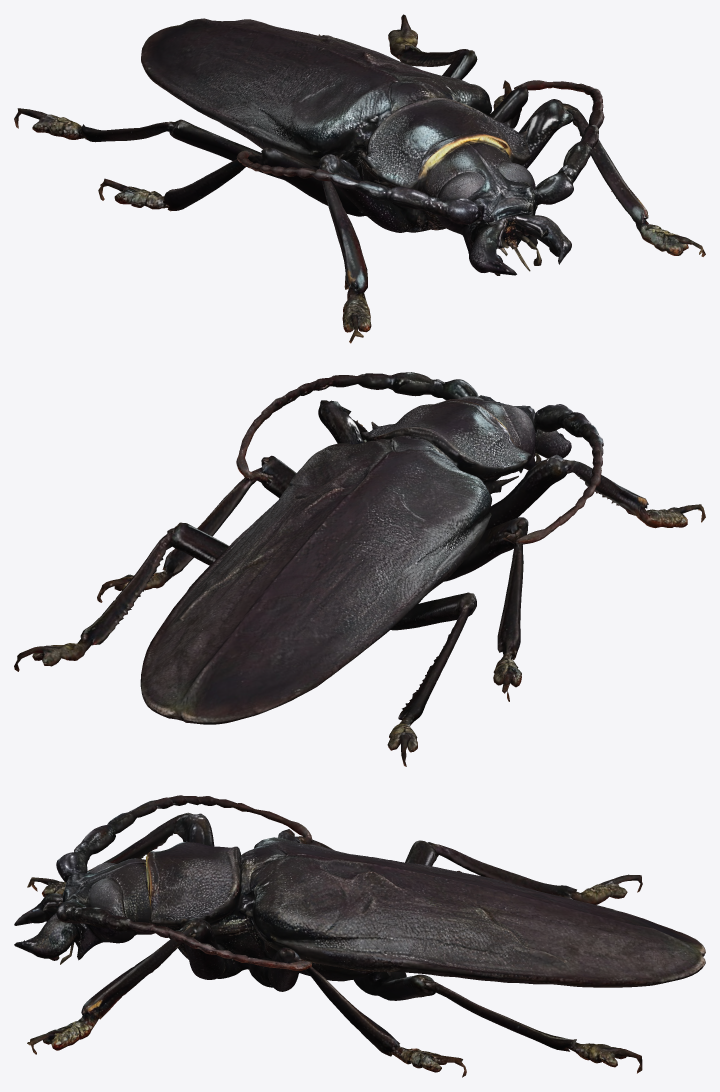
Rendered from 泰坦天牛.glb.
3 views of the same model, one above another, from view 1: azimuth 30°, elevation 25°; view 2: azimuth 150°, elevation 25°; view 3: azimuth 270°, elevation 25° (orthographic). The views are drawn at different scales.
Visible parts, largest first — view 1: tripo_node_b1323424-103d-497f-8b6c-547e709d12b7; view 2: tripo_node_b1323424-103d-497f-8b6c-547e709d12b7; view 3: tripo_node_b1323424-103d-497f-8b6c-547e709d12b7.
Part boxes in pixels (x1=…): tripo_node_b1323424-103d-497f-8b6c-547e709d12b7: x1=14, y1=14, x2=705, y2=343; tripo_node_b1323424-103d-497f-8b6c-547e709d12b7: x1=14, y1=372, x2=705, y2=766; tripo_node_b1323424-103d-497f-8b6c-547e709d12b7: x1=14, y1=795, x2=705, y2=1077.
Bounding box in the file's own units: 0.6428 × 0.2075 × 0.9809.
Materials: 1 (1 with a texture image).
